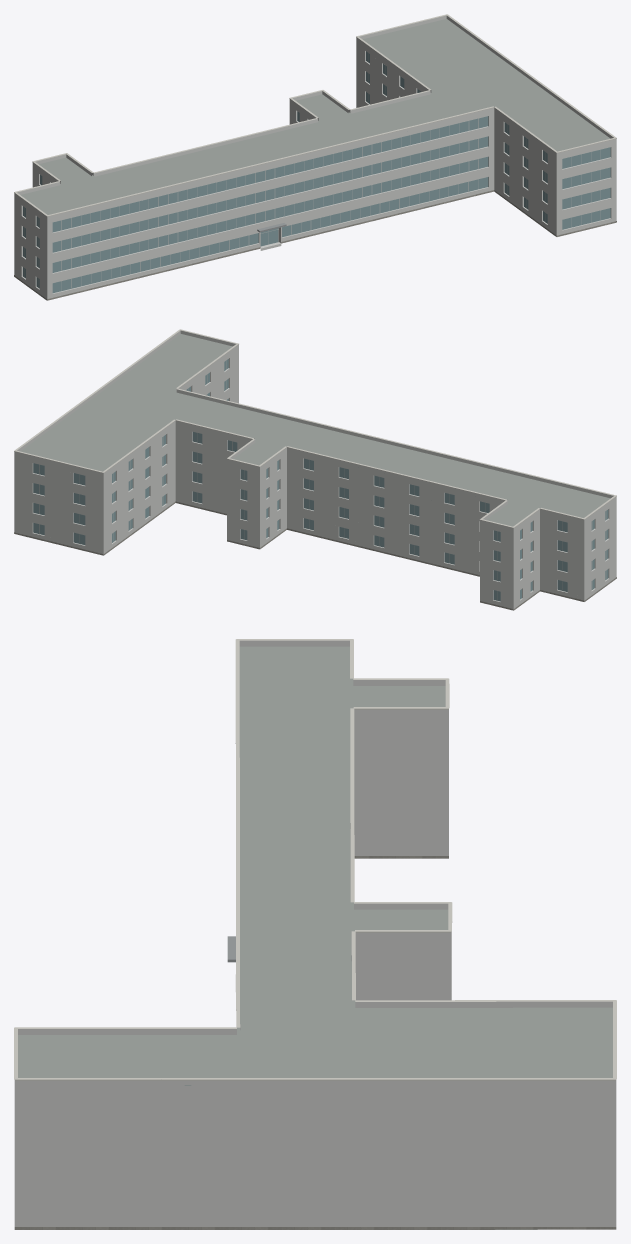
The picture shows the model from 3 angles, top to bottom: view 1: azimuth 30°, elevation 25°; view 2: azimuth 150°, elevation 25°; view 3: azimuth 270°, elevation 25°; orthographic projection. The views are drawn at different scales.
Parts seen in each view (by area): view 1: w2__wall, w2__roof, w2__glass, w2__parapet, w2__trim, w2__frame, w2__base; view 2: w2__wall, w2__roof, w2__glass, w2__parapet, w2__trim, w2__base, w2__frame; view 3: w2__wall, w2__roof, w2__parapet, w2__trim, w2__base.
Boxes of the visible parts, <box> form: w2__wall: <box>14,40,616,300</box>; w2__roof: <box>21,19,609,214</box>; w2__glass: <box>23,51,610,293</box>; w2__parapet: <box>14,15,616,219</box>; w2__trim: <box>14,14,616,216</box>; w2__frame: <box>24,53,600,290</box>; w2__base: <box>14,190,616,300</box>; w2__wall: <box>14,347,616,610</box>; w2__roof: <box>20,334,610,526</box>; w2__glass: <box>33,359,608,601</box>; w2__parapet: <box>14,330,616,530</box>; w2__trim: <box>14,329,616,528</box>; w2__base: <box>14,501,616,610</box>; w2__frame: <box>39,361,606,600</box>; w2__wall: <box>14,714,616,1226</box>; w2__roof: <box>18,646,612,1229</box>; w2__parapet: <box>14,640,616,1085</box>; w2__trim: <box>14,639,616,1080</box>; w2__base: <box>14,856,616,1229</box>.
Bounding box in the file's own units: 94.38 × 15.4 × 54.57.
10 materials, 1 textured.
